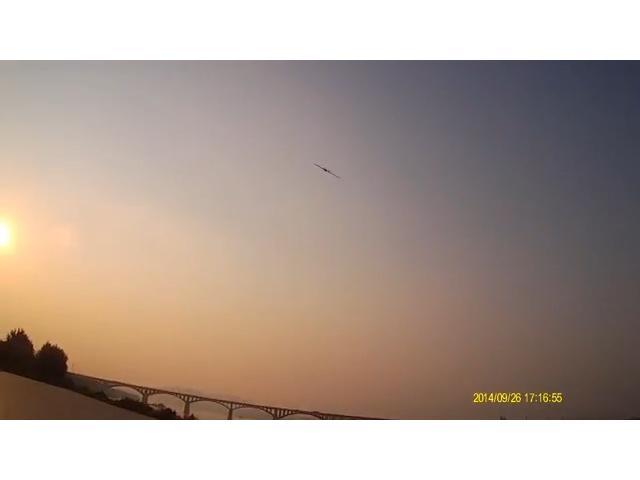Anti-Drone: (308, 152, 350, 190)
